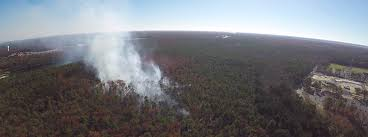yanwu: (31, 0, 186, 115)
